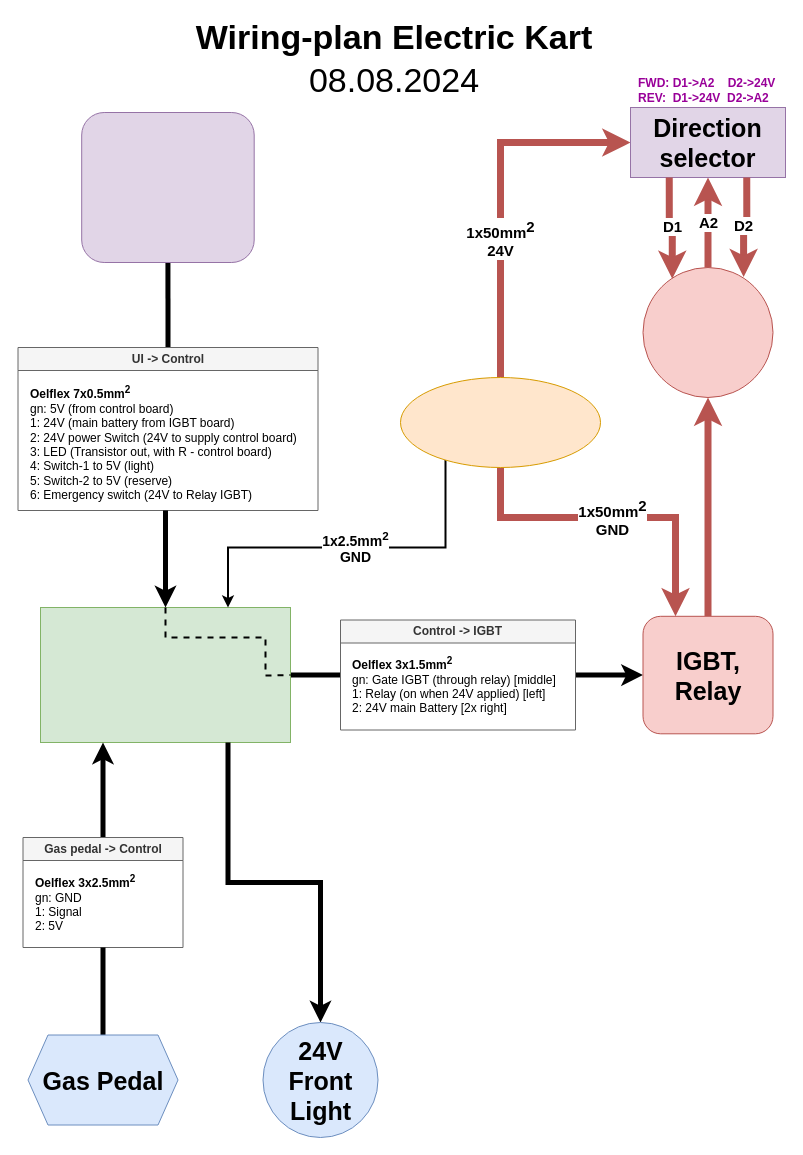
Image size: 803x1155. Some labels were removed from this diagram. The shapes that lost their labels are listed below. From the top down, each one's centre as x and y in pixels, then its label:
At pixel 167 187: "UI: switch ( 24V Supply), Emergency stop switch, Toggle switch (light) 5mm LED".
At pixel 707 332: "2.9kW Motor".
At pixel 500 422: "2x 12V 100Ah AGM Battery".
At pixel 165 674: "Control Board".
